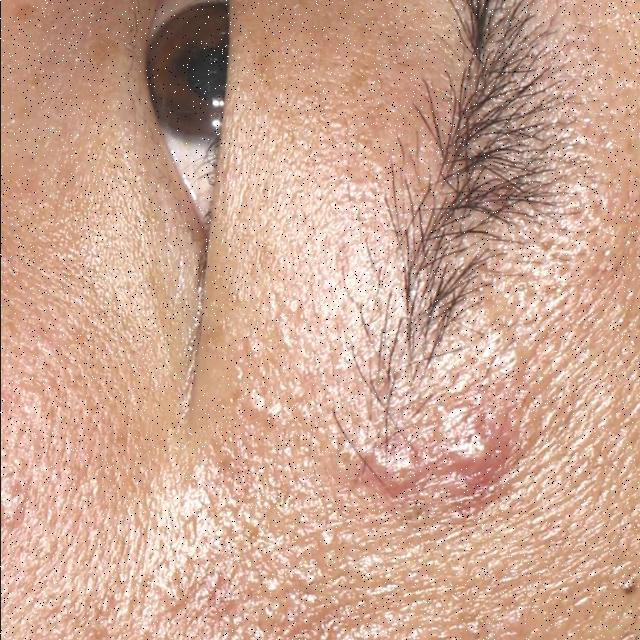nodules: (343, 367, 527, 539)
